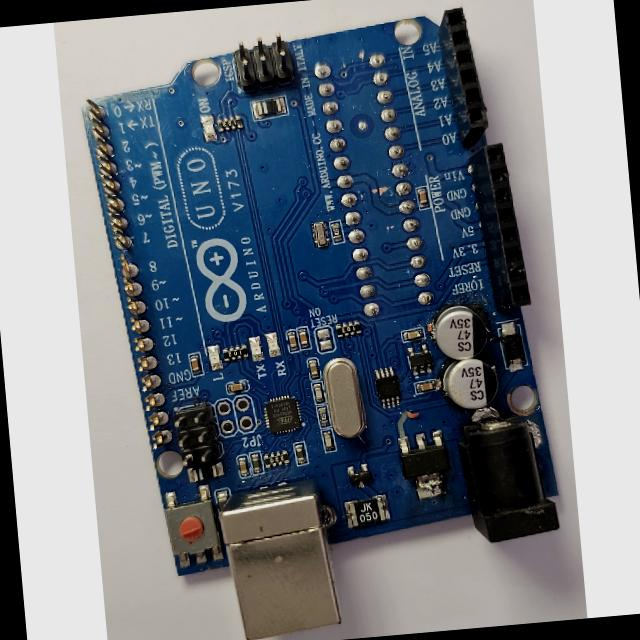missing_atmega: (307, 44, 445, 321)
missing_digital_pins: (76, 90, 177, 464)
